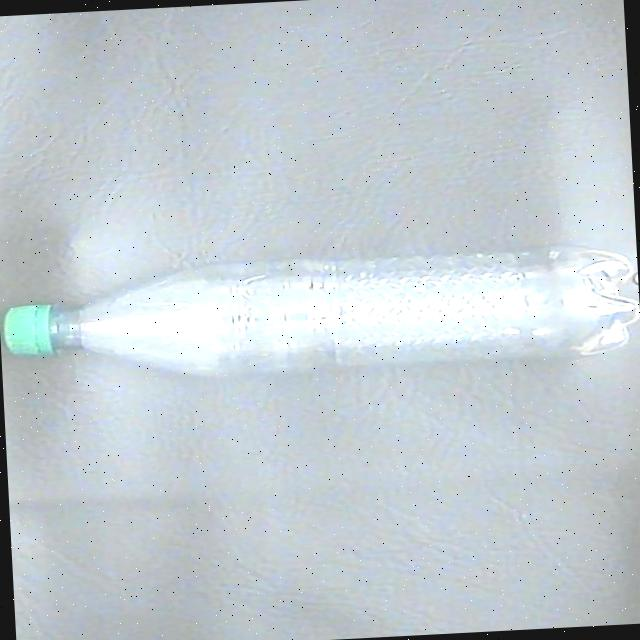bottle: (5, 234, 640, 392)
cap: (5, 306, 52, 367)
